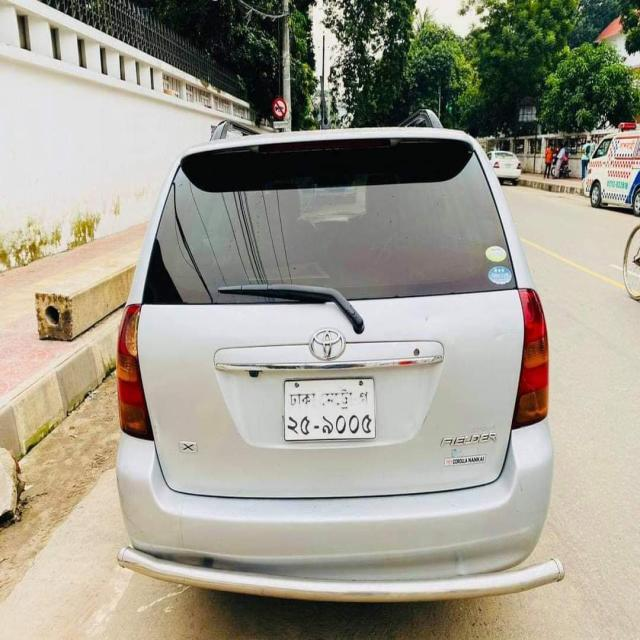silver: (116, 126, 545, 614)
